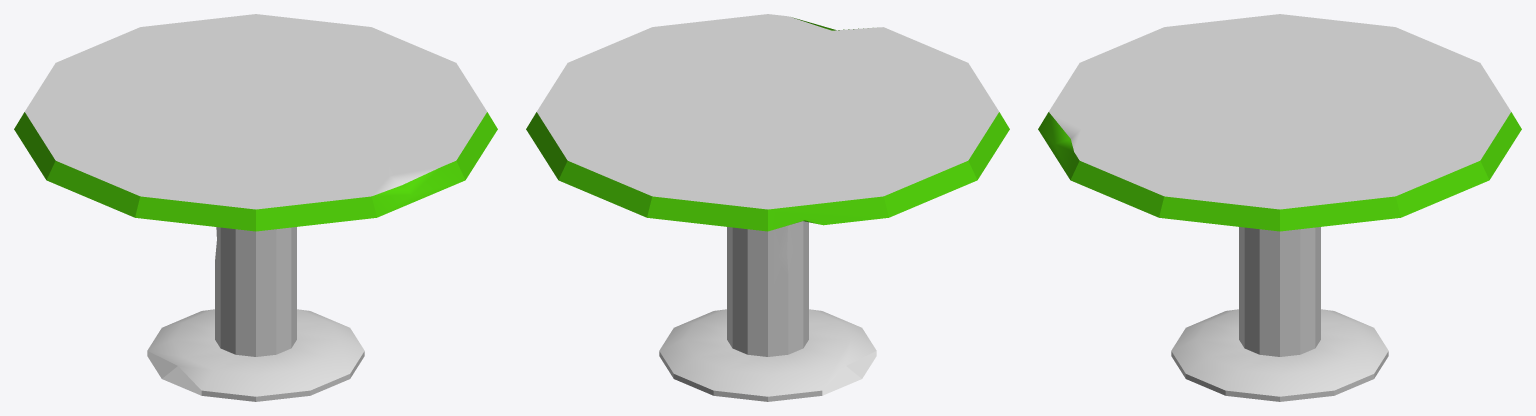
Rendered from Table2.fbx.
3 views of the same model, side by side, from view 1: azimuth 30°, elevation 25°; view 2: azimuth 150°, elevation 25°; view 3: azimuth 270°, elevation 25° (orthographic).
Visible parts, largest first — view 1: Table2; view 2: Table2; view 3: Table2.
Part boxes in pixels (x1,y1,x2,y2): Table2: (14,14,497,401); Table2: (526,14,1009,401); Table2: (1038,14,1521,401).
Bounding box in the file's own units: 146 × 81.05 × 146.
